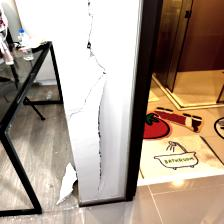High: (65, 1, 117, 204)
